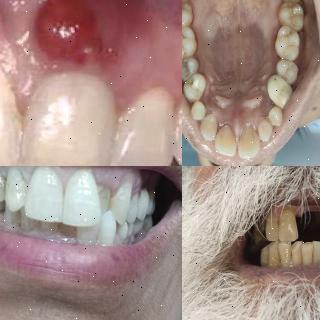cavities: (280, 28, 294, 40), (256, 224, 266, 239), (187, 79, 196, 91), (182, 27, 188, 42)
maligned: (94, 175, 118, 220), (55, 212, 82, 244), (97, 209, 119, 246)
plaque: (0, 216, 52, 231)
